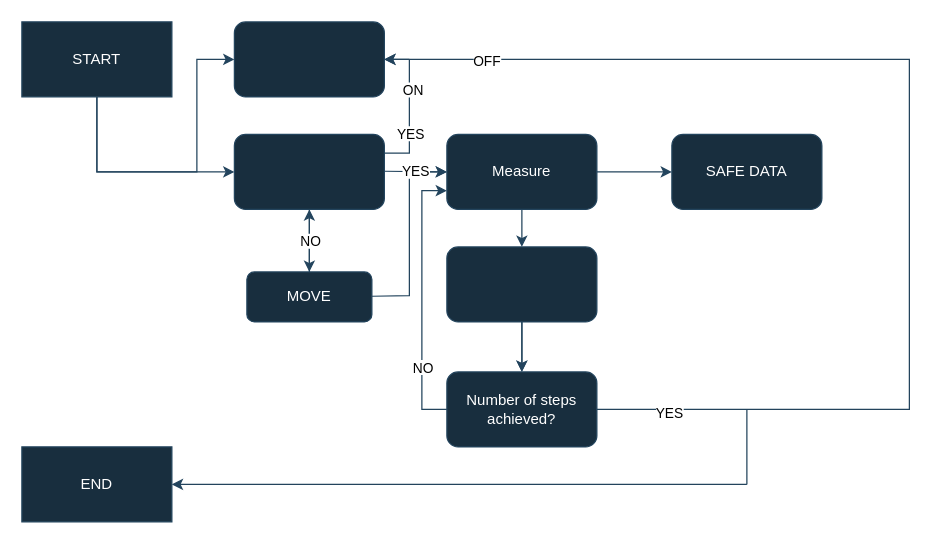
Some shapes in this 941 by 544 pixel diagram are drawn without their labels. The shapes that lost their labels are listed below. From the top down, each one's box as (x1, y1, x2, y2) in pixels, then its label:
(233, 21, 384, 97): SWITCH Power to magnet
(233, 133, 384, 209): MOTOR To start position
(446, 246, 597, 322): Move to next
